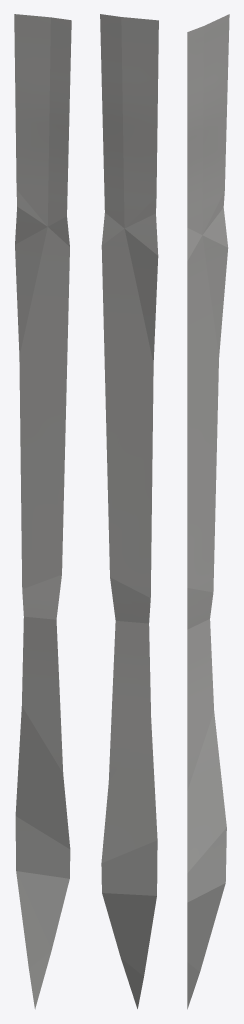
3 views of the same model, side by side, from view 1: azimuth 30°, elevation 25°; view 2: azimuth 210°, elevation 25°; view 3: azimuth 270°, elevation 25° (orthographic). The views are drawn at different scales.
Bounding box in the file's own units: 0.00524 × 0.1337 × 0.00513.
1 material, 1 textured.
